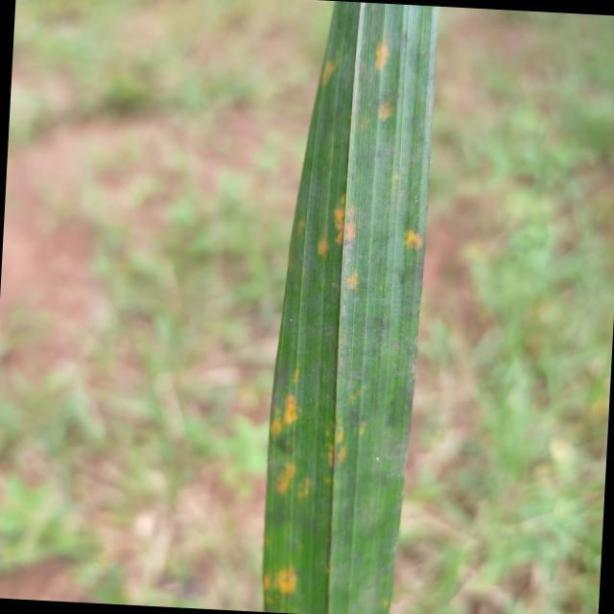Kalium: (259, 0, 437, 614)
